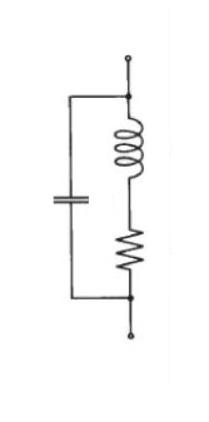resistor: (109, 213, 150, 287)
